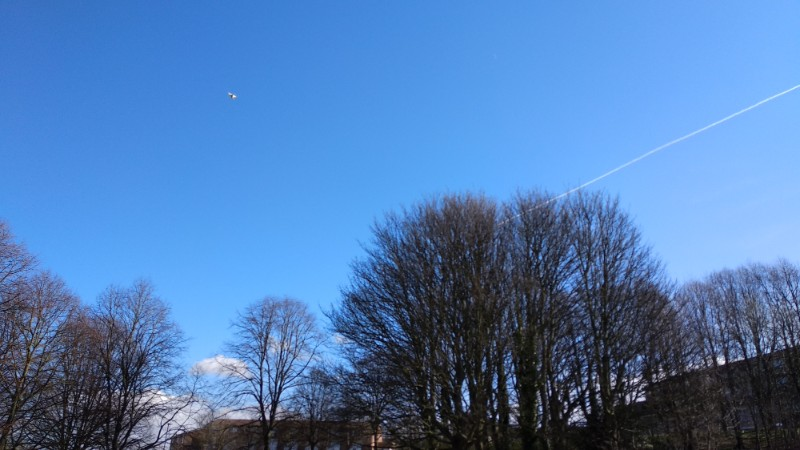drone: (226, 89, 236, 100)
